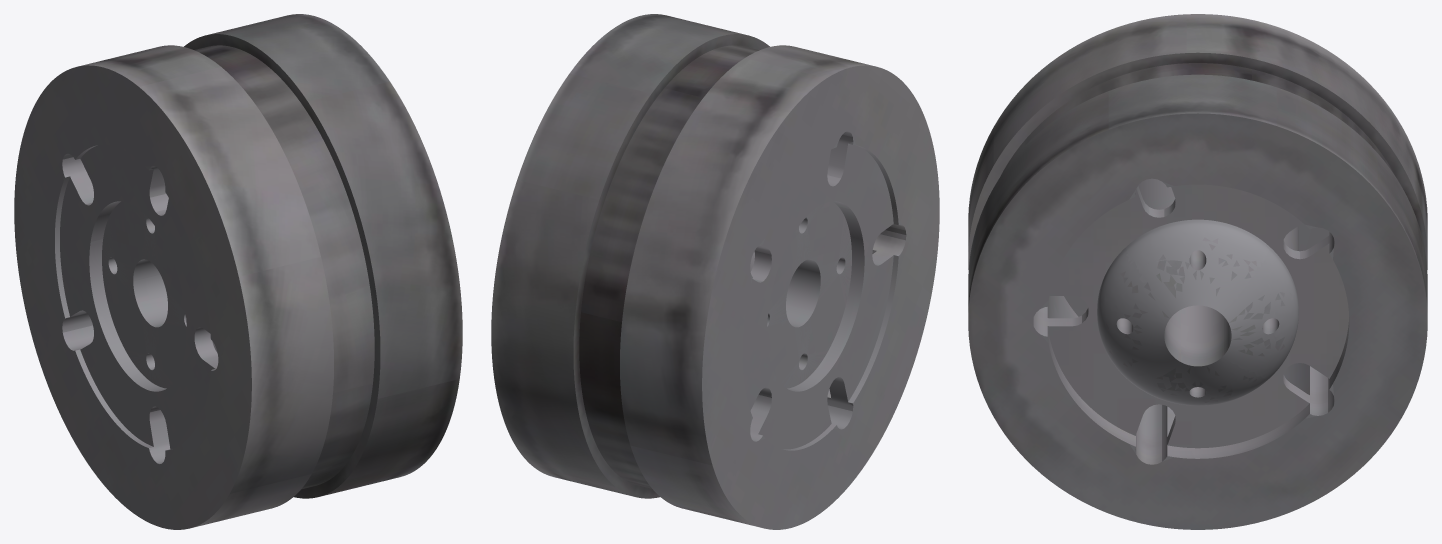
Rendered from wheel_1__hub.glb.
The picture shows the model from 3 angles, left to right: view 1: azimuth 30°, elevation 25°; view 2: azimuth 150°, elevation 25°; view 3: azimuth 270°, elevation 25°; orthographic projection. The views are drawn at different scales.
Visible parts, largest first — view 1: world; view 2: world; view 3: world.
Boxes of the visible parts, x1=… form: world: x1=14, y1=14, x2=462, y2=529; world: x1=491, y1=14, x2=939, y2=529; world: x1=968, y1=14, x2=1427, y2=529.
Bounding box in the file's own units: 0.048 × 0.082 × 0.082.
Materials: 1 (1 with a texture image).
